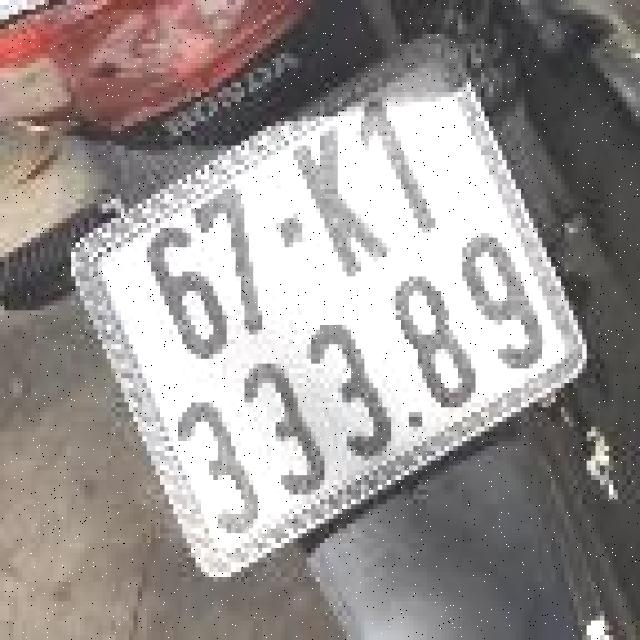1: (343, 83, 460, 250)
3: (295, 302, 415, 474), (160, 381, 279, 553), (231, 343, 341, 515)
6: (132, 210, 241, 374)
7: (182, 171, 297, 350)
8: (376, 255, 497, 424)
9: (443, 215, 562, 388)
K: (277, 113, 404, 298)
